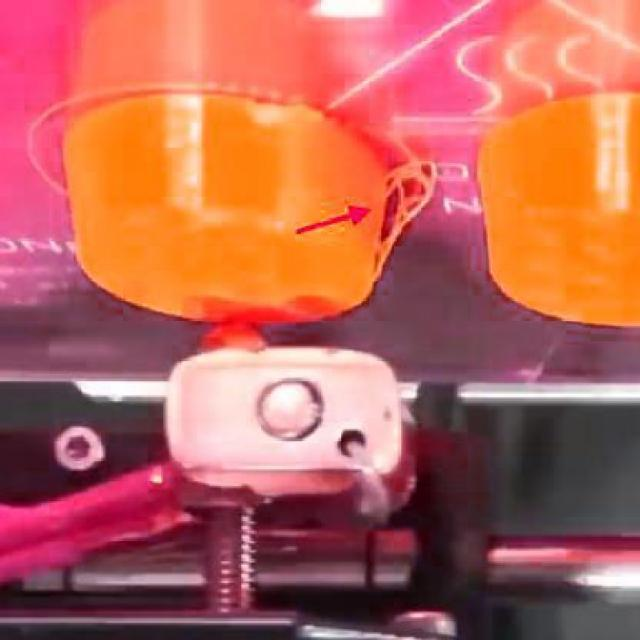spaghetti: (357, 151, 445, 300)
